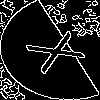X: (25, 25, 98, 75)
